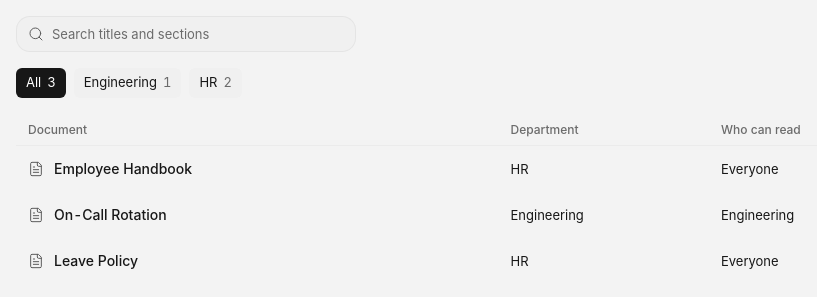
Test case: LibraryClient › shows a request failure only under the query that failed
This screenshot has width=817, height=297.
Type "zzz" into the search field labelled "Search titles and sections" at (198, 34), box 52,16 -> 344,52
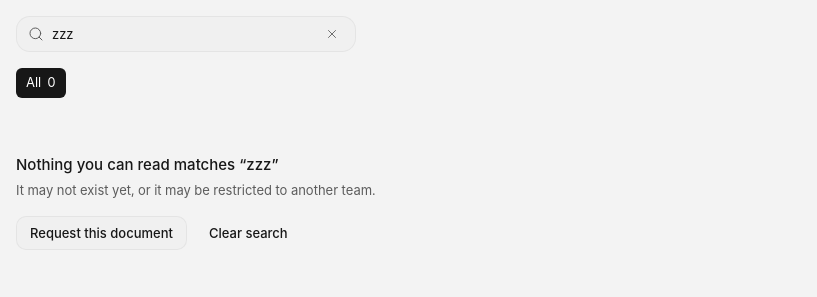
Click the button "Request this document" at (102, 233), box 16,216 -> 187,250
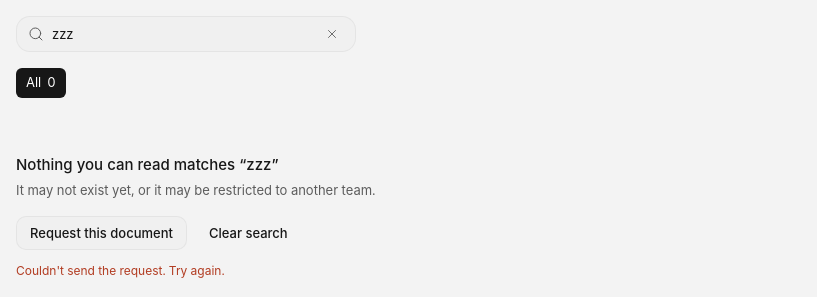
Expected: the message "Couldn't send the request. Try again." is shown, 16,262 -> 225,280
Replace the text in the search field named "Search titles and sections" with "yyy" at (182, 34), box 52,16 -> 312,52
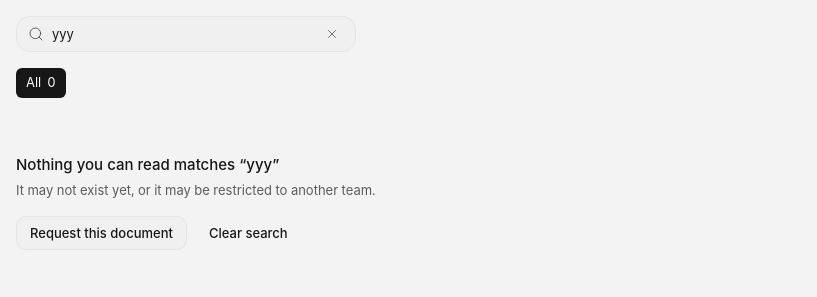
Expected: the message "Couldn't send the request. Try again." is gone
